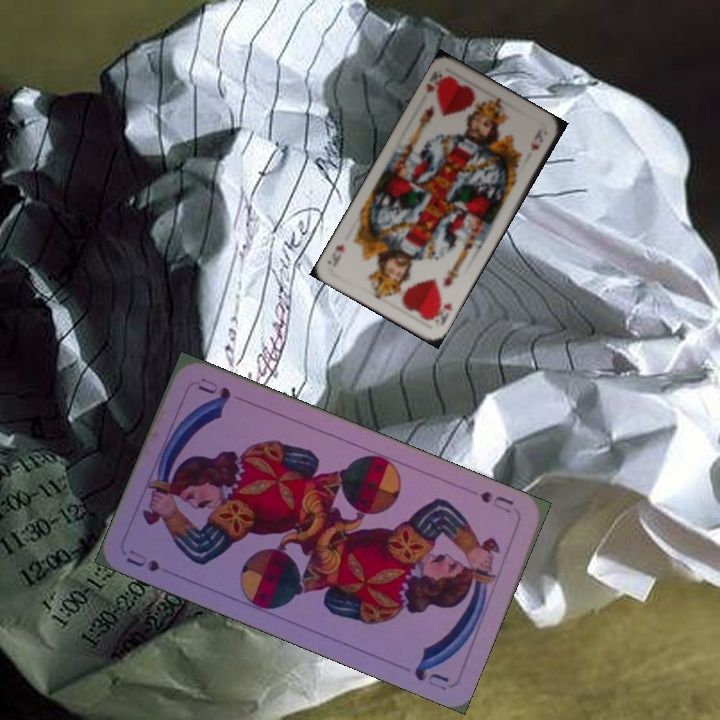HK: (422, 67, 450, 101), (427, 298, 455, 329)
SU: (122, 545, 163, 575), (476, 487, 517, 516)
